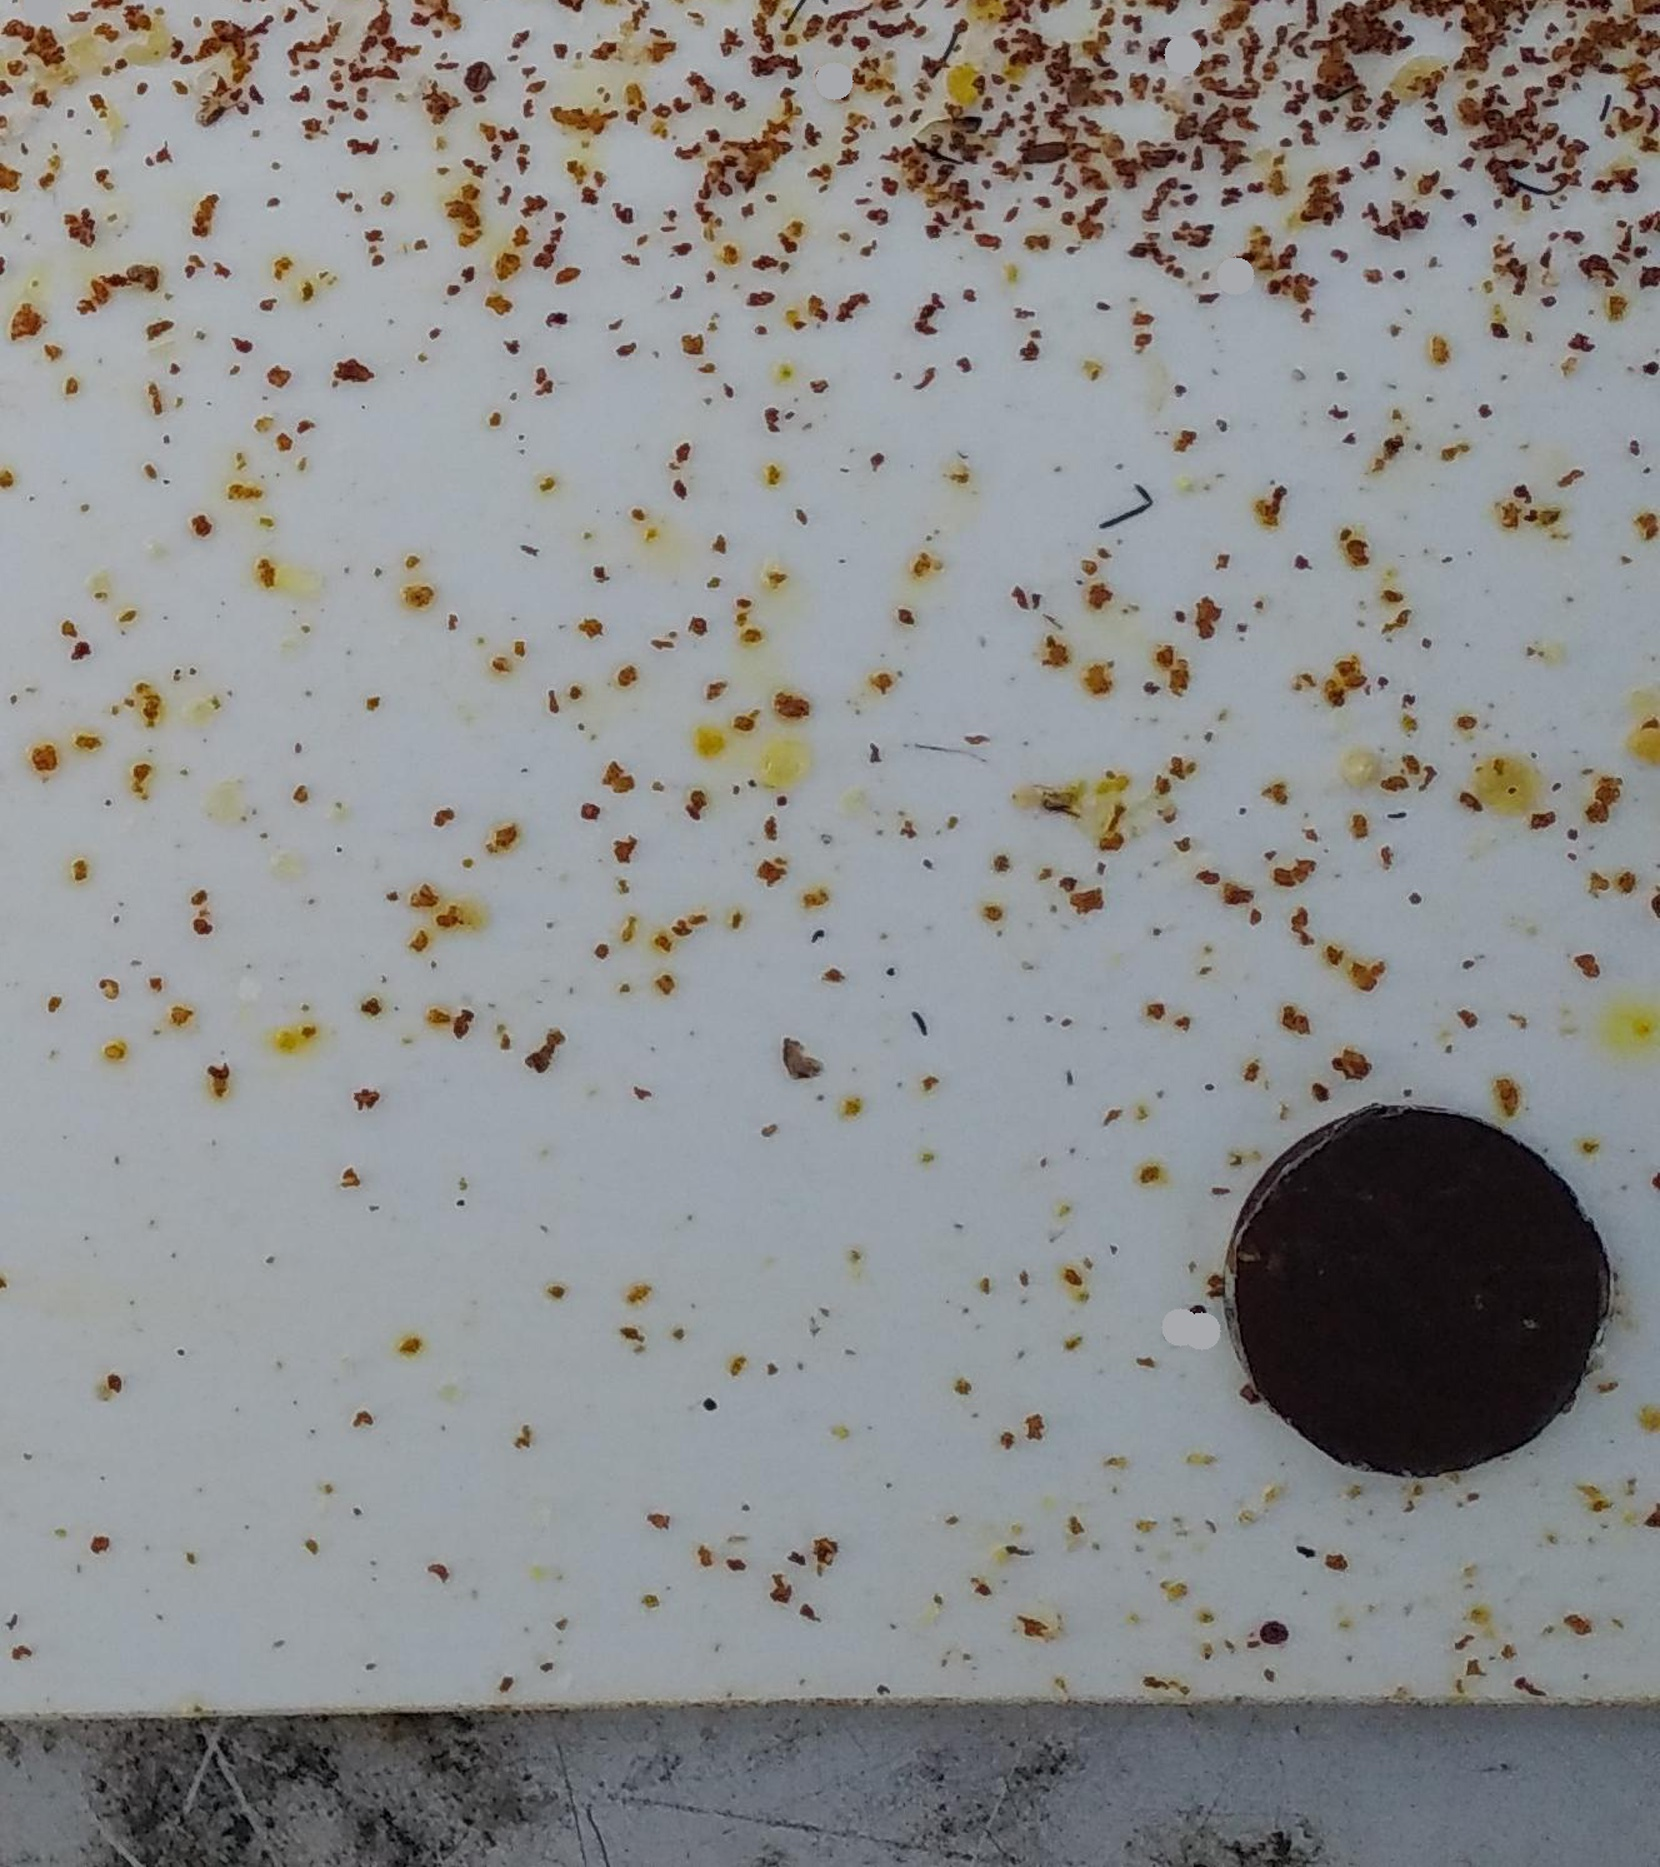Varroa: (1179, 1300, 1210, 1329), (1256, 1619, 1285, 1646), (466, 63, 492, 93), (1154, 30, 1179, 59)
